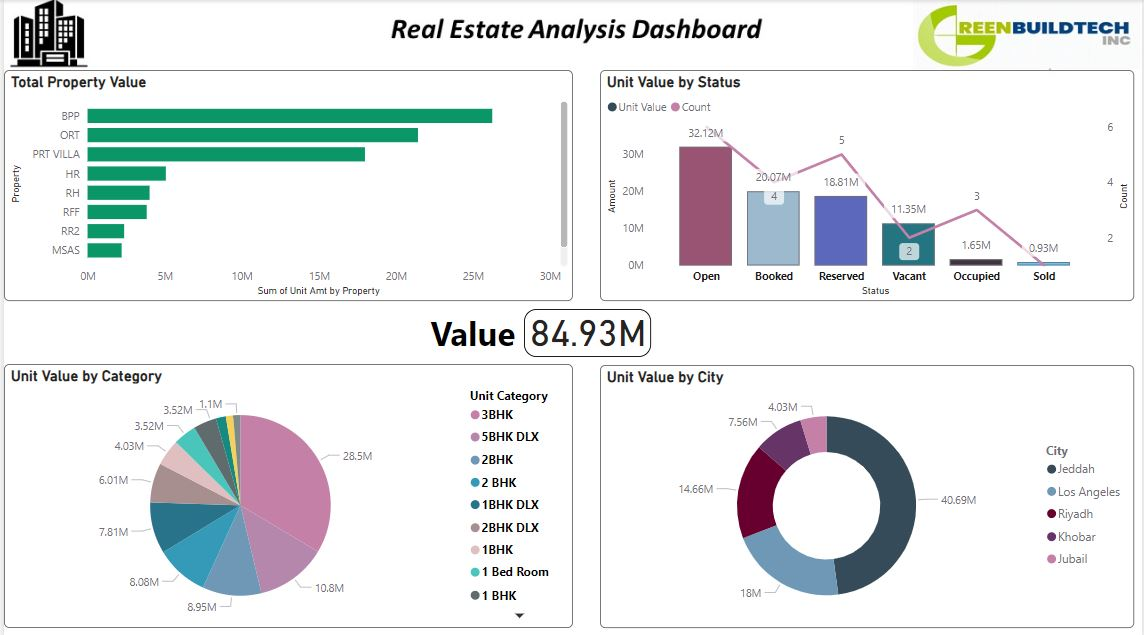

The dashboard page shown, as its layout file describes it:
{"tool":"powerbi","page":{"name":"Page 1","canvas":[1280,720],"ordinal":0},"visuals":[{"type":"barChart","title":"Total Property Value","fields":{"Category":["PowerBIUnitsList.Property"],"Y":["Sum(PowerBIUnitsList.Gross_Unit_Amt)"]},"box":[0,67.6,640,292],"z":0},{"type":"lineClusteredColumnComboChart","title":"Unit Value by Status","fields":{"Y":["Sum(PowerBIUnitsList.Gross_Unit_Amt)"],"Category":["PowerBIUnitsList.AreaStatus"],"Y2":["Count(PowerBIUnitsList.No_)"]},"box":[665.5,67.6,609.4,292],"z":1000},{"type":"pieChart","title":"Unit Value by  Category","fields":{"Category":["PowerBIUnitsList.Unit_Type"],"Y":["Sum(PowerBIUnitsList.Total_Unit_Value)"]},"box":[0,425.8,640,293.2],"z":2000},{"type":"donutChart","title":"Customers by City ","fields":{"Category":["PowerBIUnitsList.city"],"Y":["Sum(PowerBIUnitsList.Total_Unit_Value)"]},"box":[665.5,425.8,609.4,293.2],"z":3000},{"type":"card","fields":{"Values":["Sum(PowerBIUnitsList.Total_Unit_Value)"]},"box":[585.2,365.9,173.4,53.5],"z":4000},{"type":"textbox","box":[470.4,363.3,114.7,65],"z":5000},{"type":"slicer","fields":{"Values":["PowerBIUnitsList.Dateupdated"]},"box":[891.2,70.1,279.2,104.5],"z":6000}]}

Visuals, with their boxes in screenshot pixels (x1, y1, x2, y2), scaled from the page's 1280x720 canvas onto the 1144x635 screenshot:
"Total Property Value" barChart: 0 60 572 317
"Unit Value by Status" lineClusteredColumnComboChart: 595 60 1139 317
"Unit Value by  Category" pieChart: 0 376 572 634
"Customers by City " donutChart: 595 376 1139 634
card - Sum(PowerBIUnitsList.Total_Unit_Value): 523 323 678 370
textbox: 420 320 523 378
slicer - PowerBIUnitsList.Dateupdated: 797 62 1046 154
